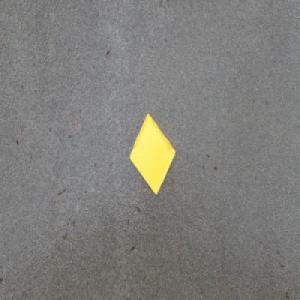PlasticPart: (128, 112, 176, 196)
